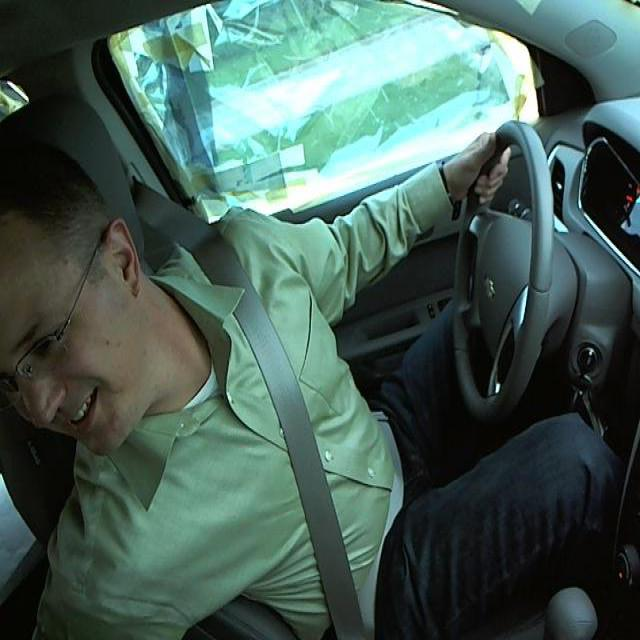seatbelt: (204, 308, 411, 627)
